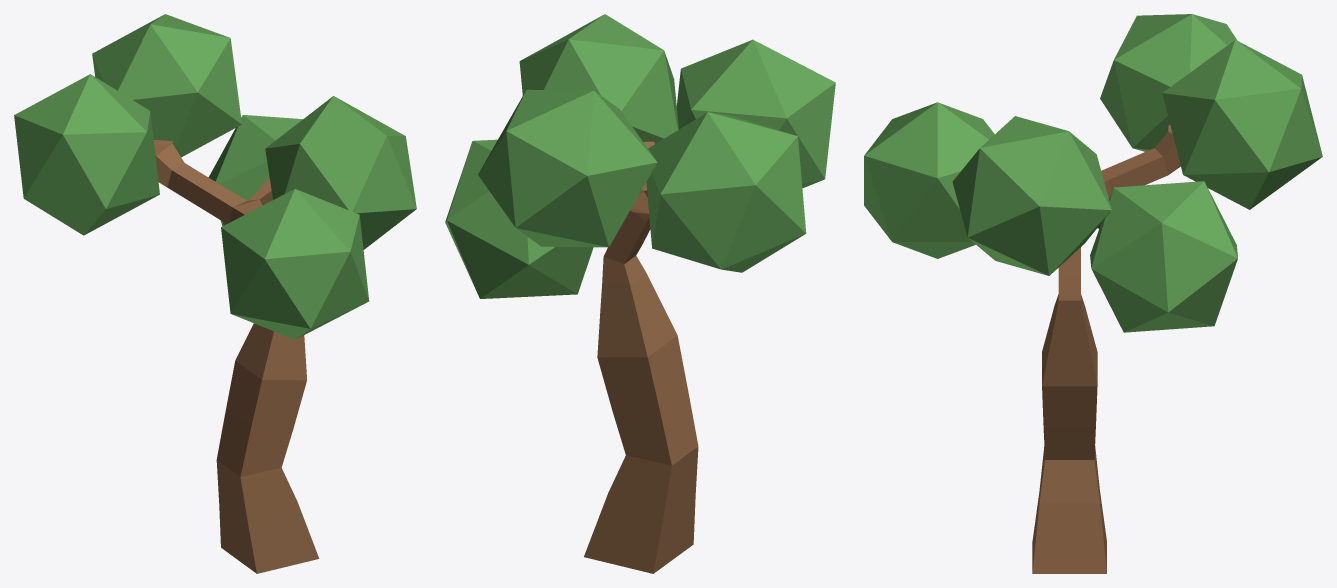
The model's file is tree_city_oldenburg.fbx.
The picture shows the model from 3 angles, left to right: view 1: azimuth 30°, elevation 25°; view 2: azimuth 150°, elevation 25°; view 3: azimuth 270°, elevation 25°; orthographic projection. The views are drawn at different scales.
Parts seen in each view (by area): view 1: Icosphere; view 2: Icosphere; view 3: Icosphere.
Part boxes in pixels (left/top/right/bottom): Icosphere: left=14, top=14, right=416, bottom=573; Icosphere: left=445, top=14, right=835, bottom=573; Icosphere: left=864, top=14, right=1322, bottom=573.
Size of the model in its own units: 248 by 351 by 293.
